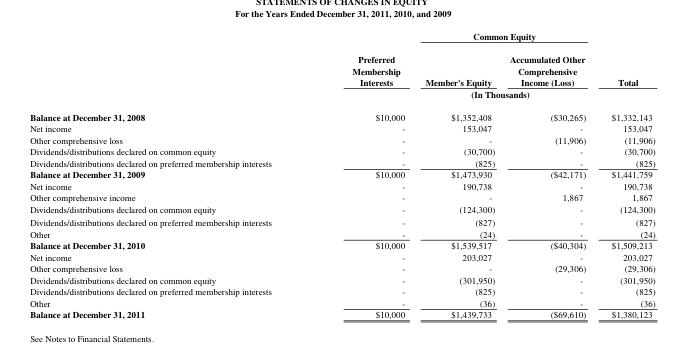table: (29, 29, 654, 320)
table column: (29, 29, 311, 320), (311, 29, 414, 320), (501, 29, 598, 320), (414, 29, 501, 320), (598, 29, 654, 320)
table column header: (29, 29, 654, 104)
table row: (29, 47, 654, 87), (29, 29, 654, 47), (29, 104, 654, 122), (29, 87, 654, 104), (29, 214, 654, 227), (29, 144, 654, 156), (29, 156, 654, 168), (29, 179, 654, 191), (29, 202, 654, 214), (29, 238, 654, 250), (29, 261, 654, 273), (29, 284, 654, 296), (29, 296, 654, 308), (29, 308, 654, 320), (29, 122, 654, 133), (29, 133, 654, 144), (29, 168, 654, 179), (29, 191, 654, 202), (29, 227, 654, 238), (29, 250, 654, 261), (29, 273, 654, 284)
table spanning cell: (311, 29, 414, 87), (311, 87, 654, 104), (414, 29, 598, 47), (598, 29, 654, 87)
